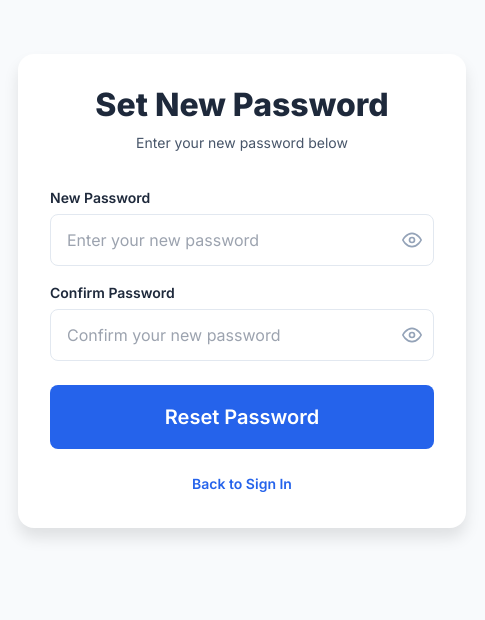
Scenario: ResetPassword › shows error message on API failure
In the password field labelled "New Password": (242, 240) [50, 214, 434, 266], type "newpass123"
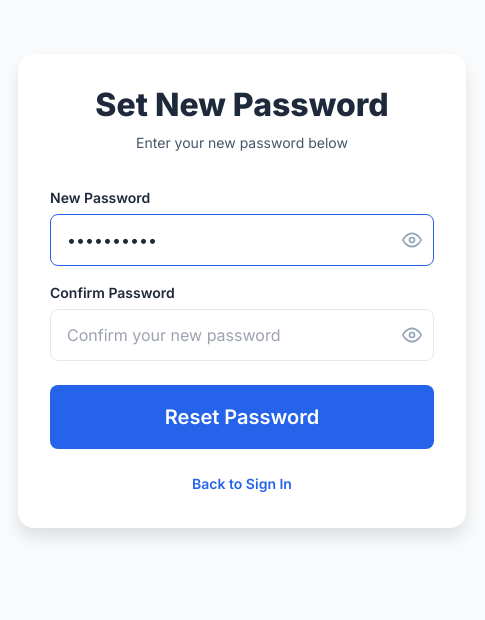
In the password field labelled "Confirm Password": (242, 335) [50, 309, 434, 361], type "newpass123"
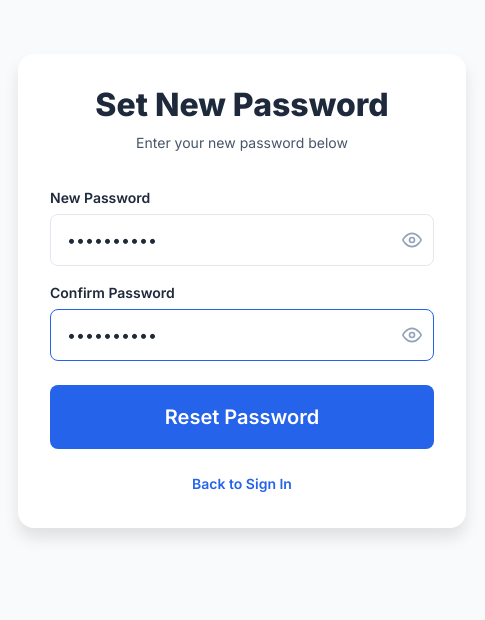
Click the button "Reset Password": (242, 417) [50, 385, 434, 449]
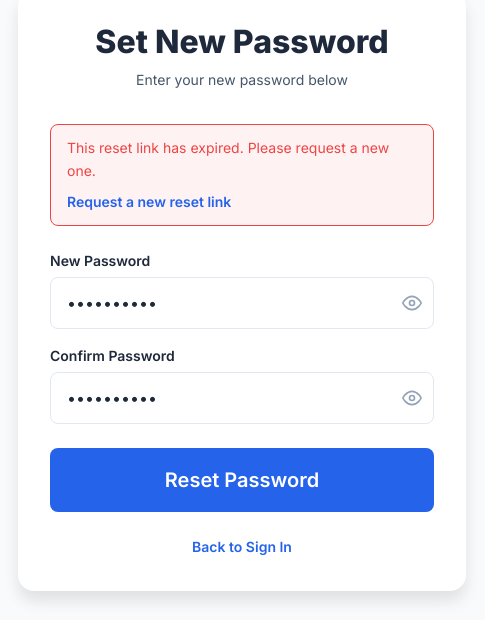
Check: the message shows "expired", box [67, 139, 389, 179]
